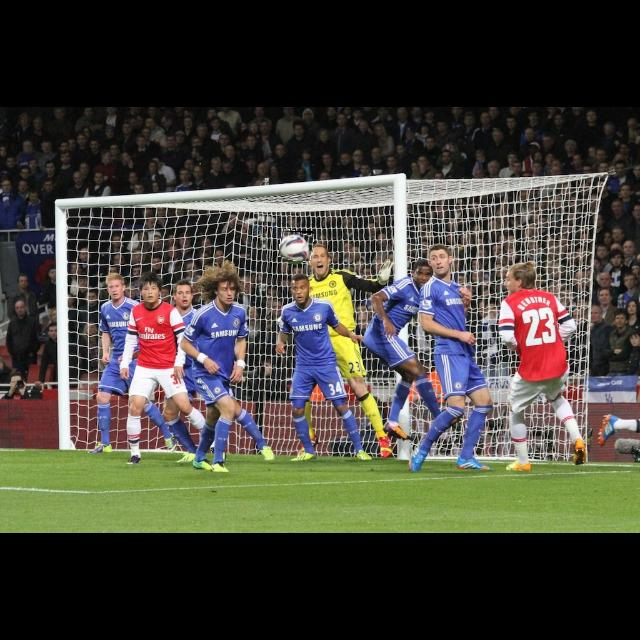Football: (279, 231, 313, 261)
